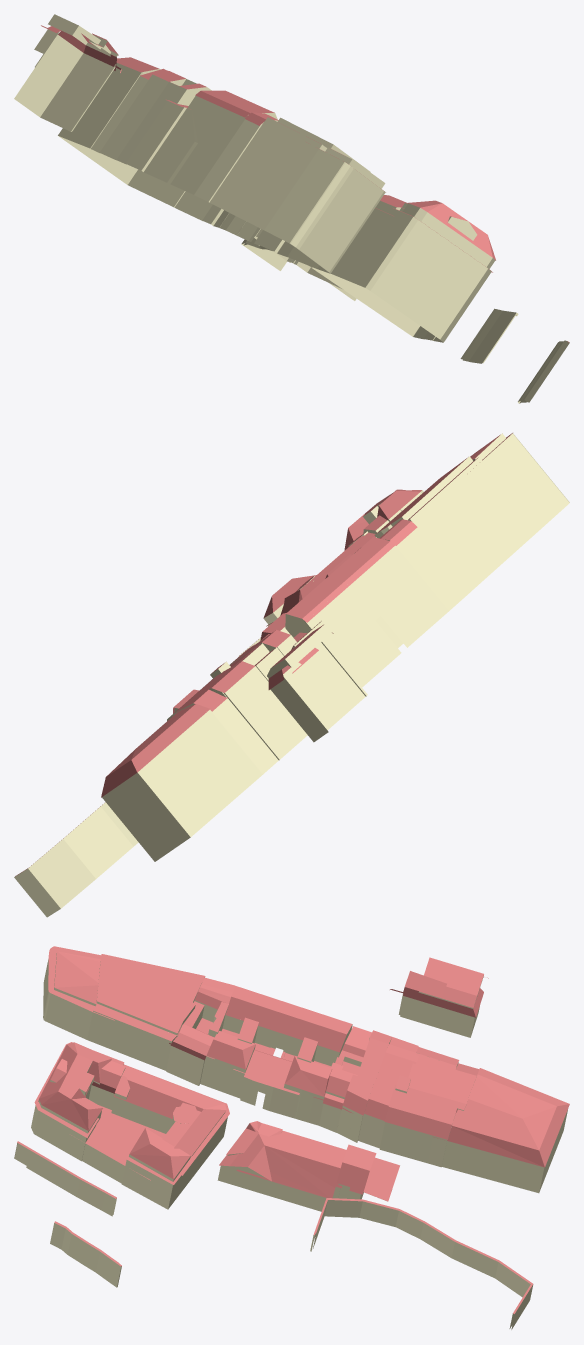
The model's file is tile_039.glb.
3 renders of one model, top to bottom at view 1: azimuth 30°, elevation 25°; view 2: azimuth 150°, elevation 25°; view 3: azimuth 270°, elevation 25°, orthographic. The views are drawn at different scales.
Visible parts, largest first — view 1: Batched_Building_ID_C1F44800-F19E-41F3-9729-2F3E4EE9E13A, Batched_Building_ID_5C8ACEF0-0331-4F37-A302-B21BE11E468E; view 2: Batched_Building_ID_C1F44800-F19E-41F3-9729-2F3E4EE9E13A, Batched_Building_ID_5C8ACEF0-0331-4F37-A302-B21BE11E468E; view 3: Batched_Building_ID_5C8ACEF0-0331-4F37-A302-B21BE11E468E, Batched_Building_ID_C1F44800-F19E-41F3-9729-2F3E4EE9E13A.
Boxes of the visible parts, box(x1,y1,x2,y2) form: Batched_Building_ID_C1F44800-F19E-41F3-9729-2F3E4EE9E13A: box(14, 14, 569, 403); Batched_Building_ID_5C8ACEF0-0331-4F37-A302-B21BE11E468E: box(41, 25, 569, 342); Batched_Building_ID_C1F44800-F19E-41F3-9729-2F3E4EE9E13A: box(14, 433, 569, 917); Batched_Building_ID_5C8ACEF0-0331-4F37-A302-B21BE11E468E: box(15, 433, 512, 876); Batched_Building_ID_5C8ACEF0-0331-4F37-A302-B21BE11E468E: box(17, 946, 569, 1313); Batched_Building_ID_C1F44800-F19E-41F3-9729-2F3E4EE9E13A: box(14, 953, 567, 1329).
Bounding box in the file's own units: 107 × 118 × 200.
